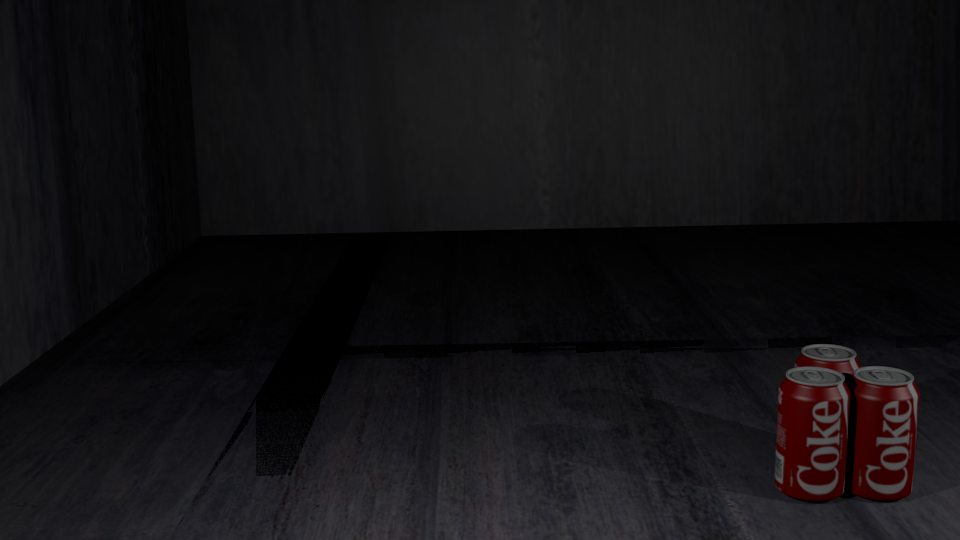cola_can: (777, 367, 849, 497), (846, 366, 918, 495), (797, 344, 861, 466)
